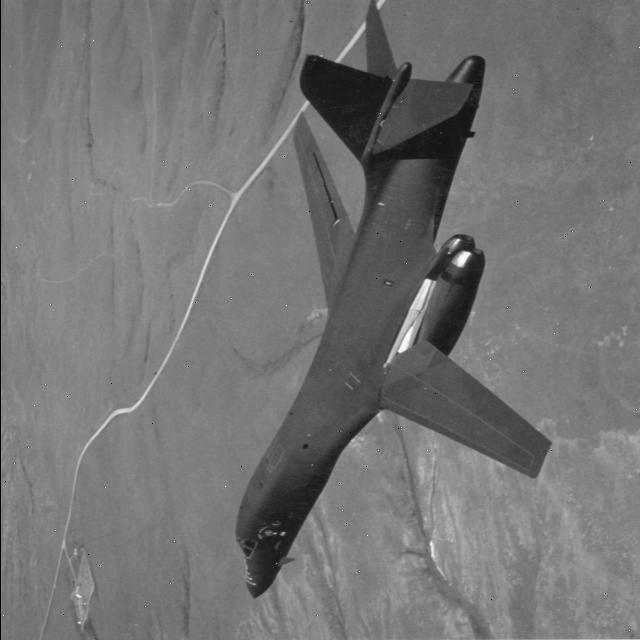B1: (186, 41, 554, 616)
